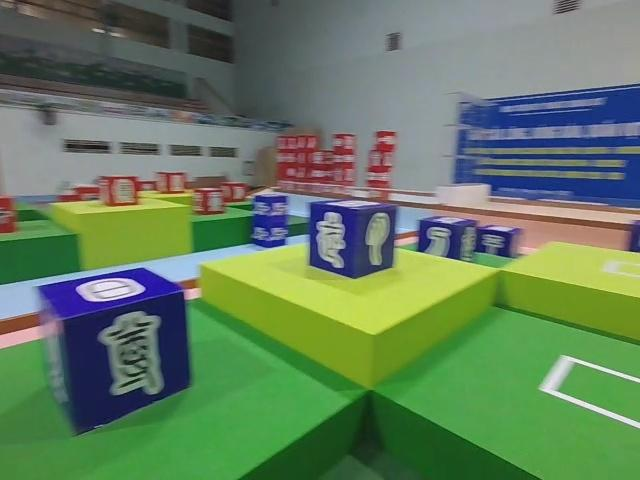R2 Fake Blue: (40, 266, 194, 433), (307, 198, 397, 280), (415, 214, 476, 262), (476, 226, 524, 261)
